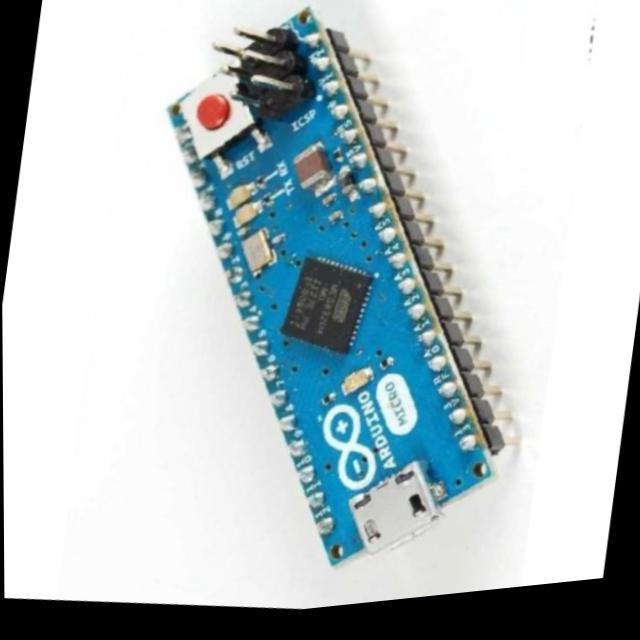Arduino-Micro: (169, 7, 504, 566)
